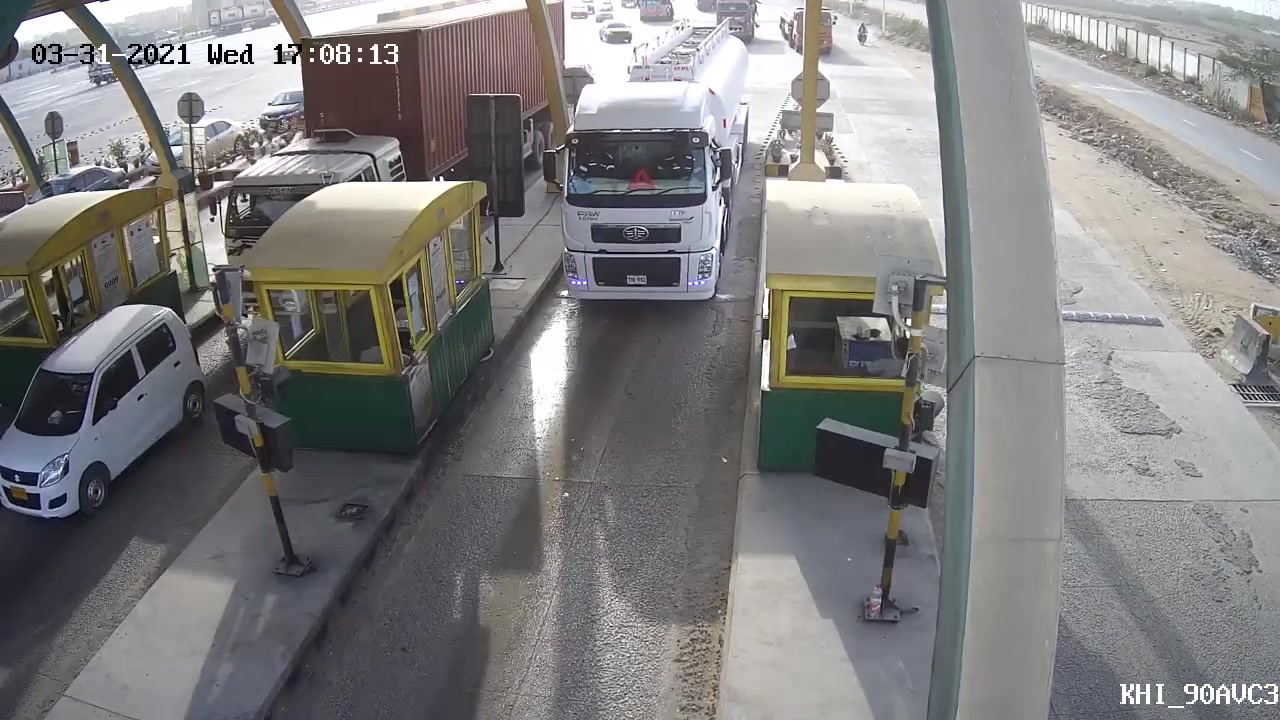F6: (548, 17, 757, 327)
